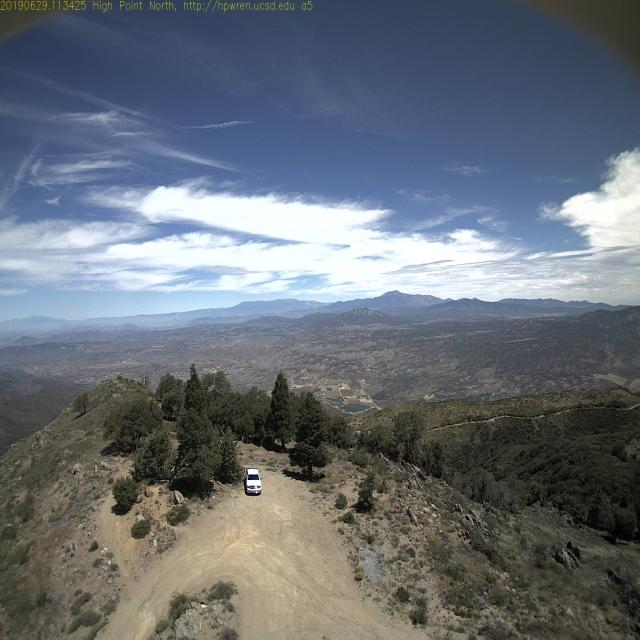smoke: (168, 306, 186, 328)
